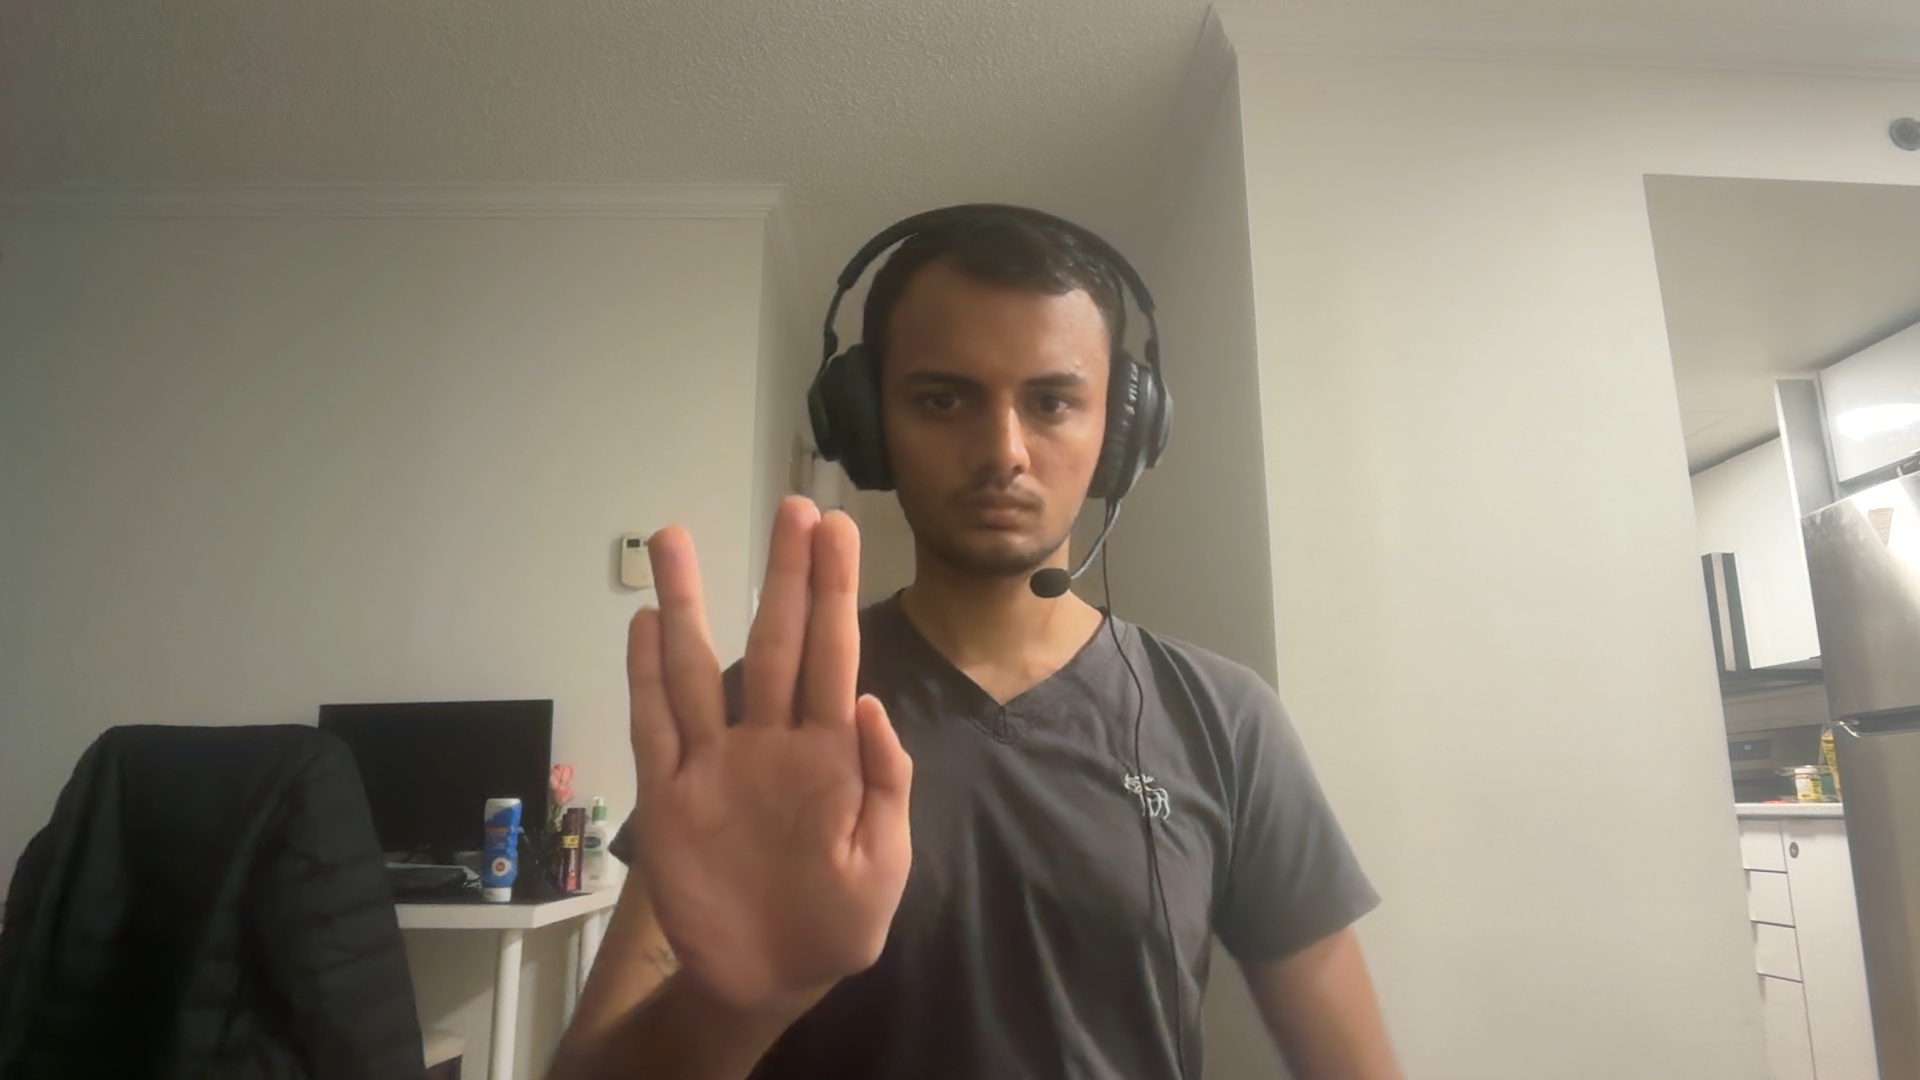livelong: (626, 496, 913, 1010)
